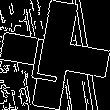L_N: (35, 28, 75, 82)
